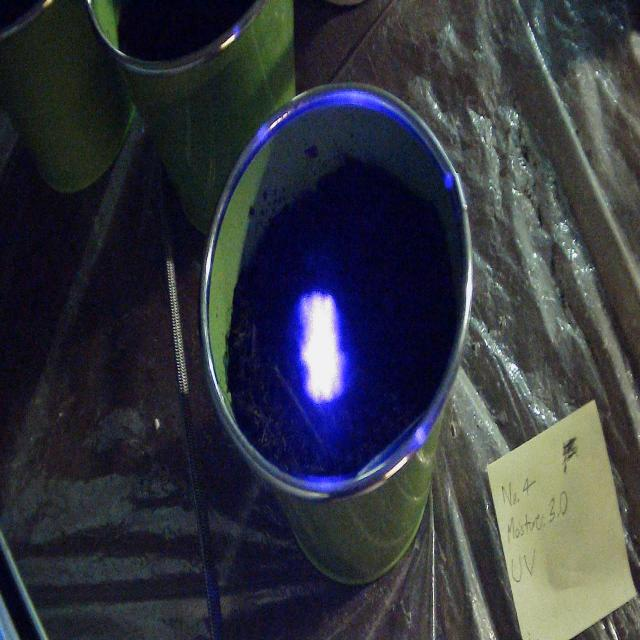soil-moisture-3.0: (293, 292, 351, 406)
